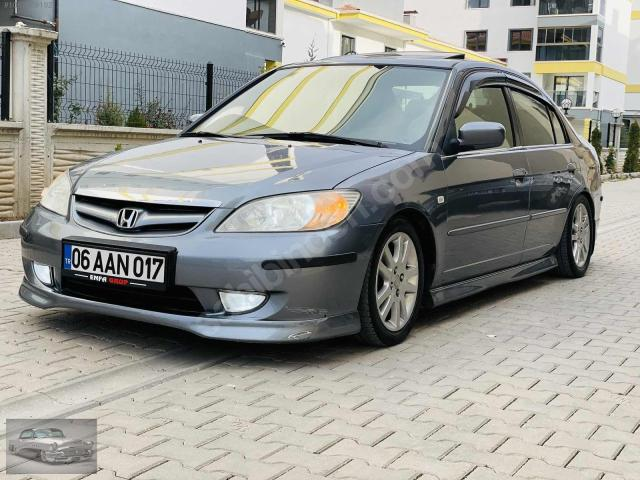plaka: (65, 244, 166, 284)
